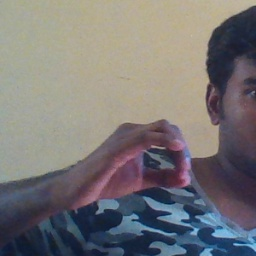O: (74, 113, 196, 213)
